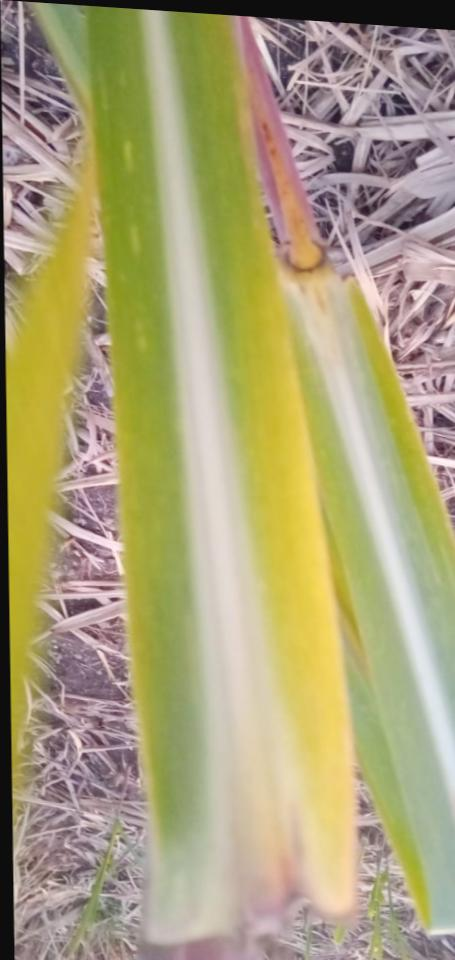Yellow: (233, 71, 353, 911)
